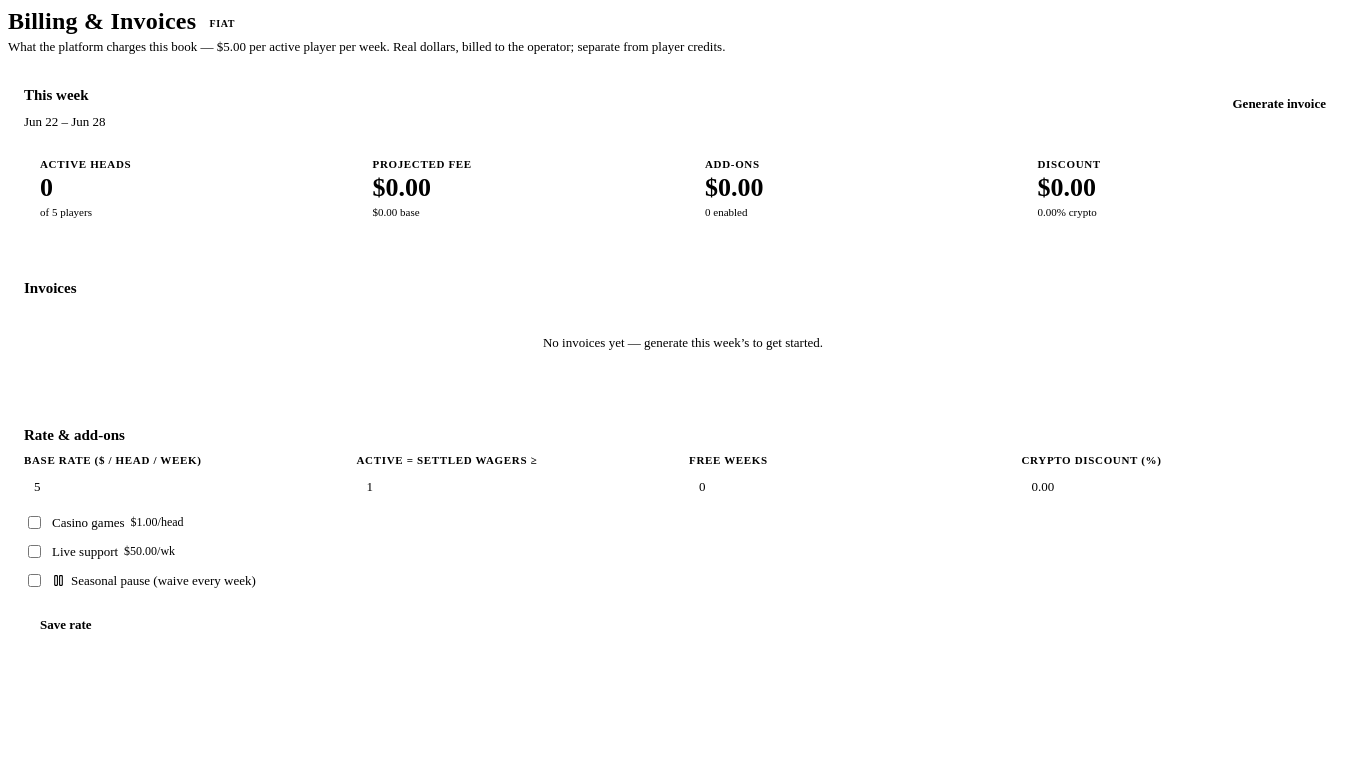
Test: BillingPanel › opens an invoice to its per-head breakdown with export controls
Click the button "Generate invoice": (1279,104) [1216,87,1342,121]
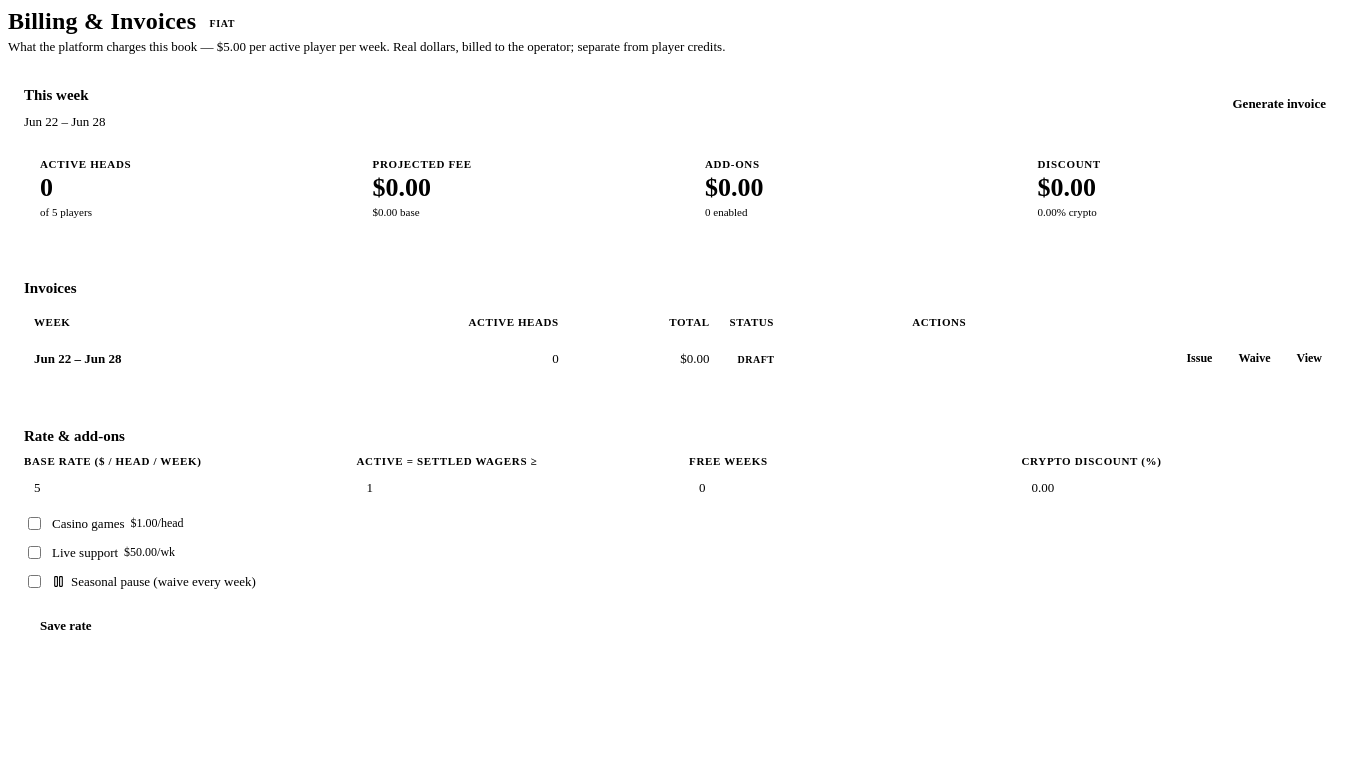
Click the button "View": (1309,358) [1286,346,1332,371]
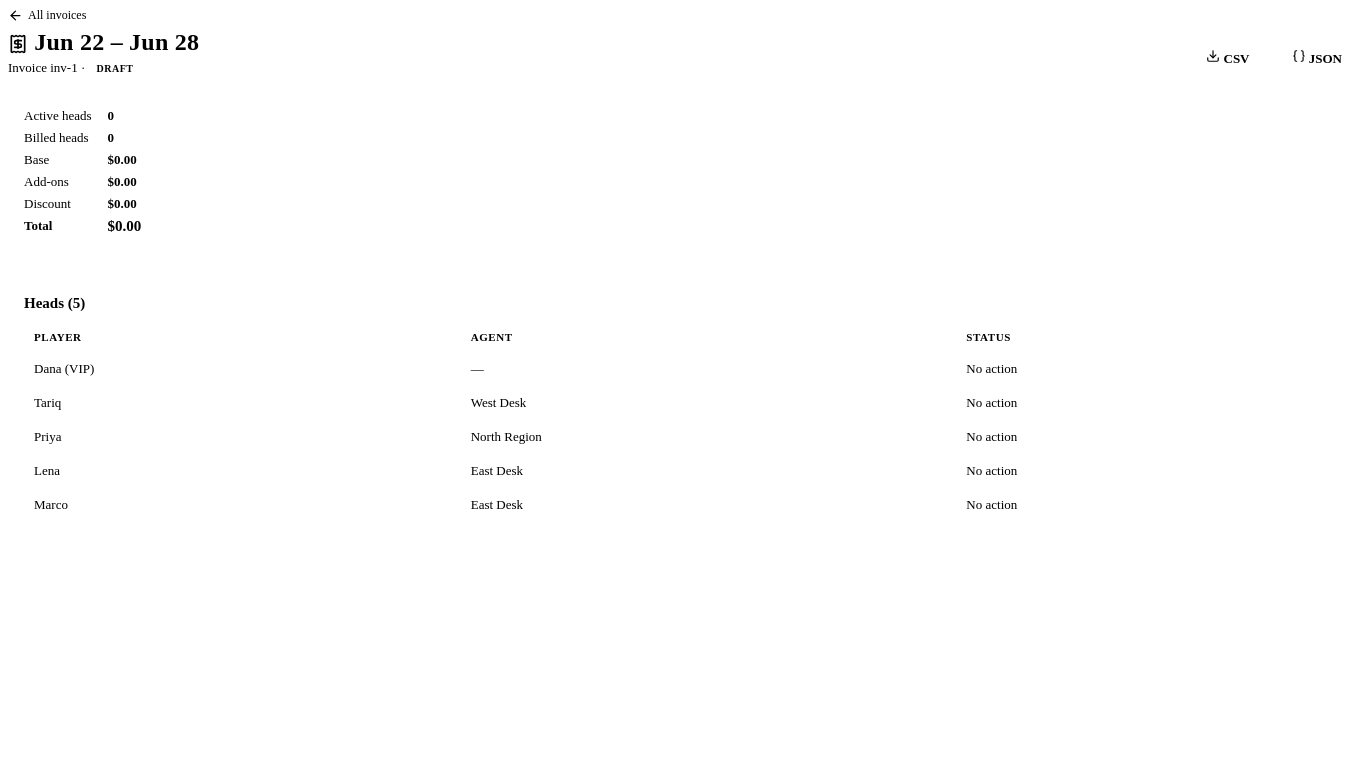
Now the text "Heads (" is shown, box [24,295,73,311]
